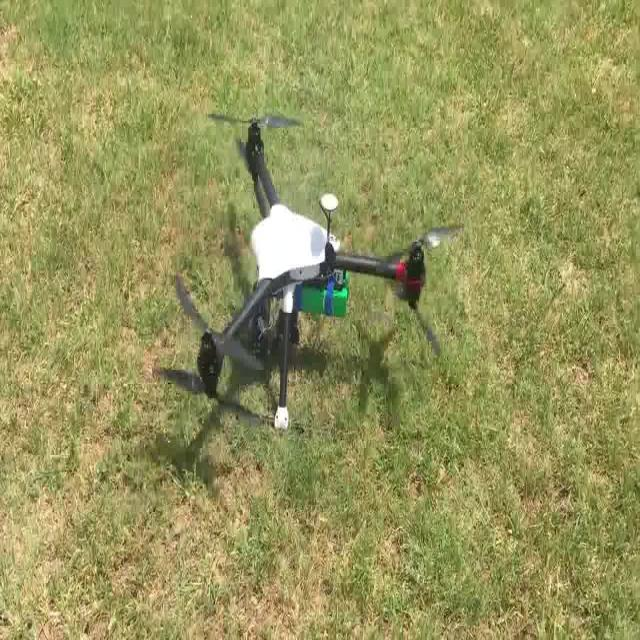drones: (146, 88, 469, 442)
